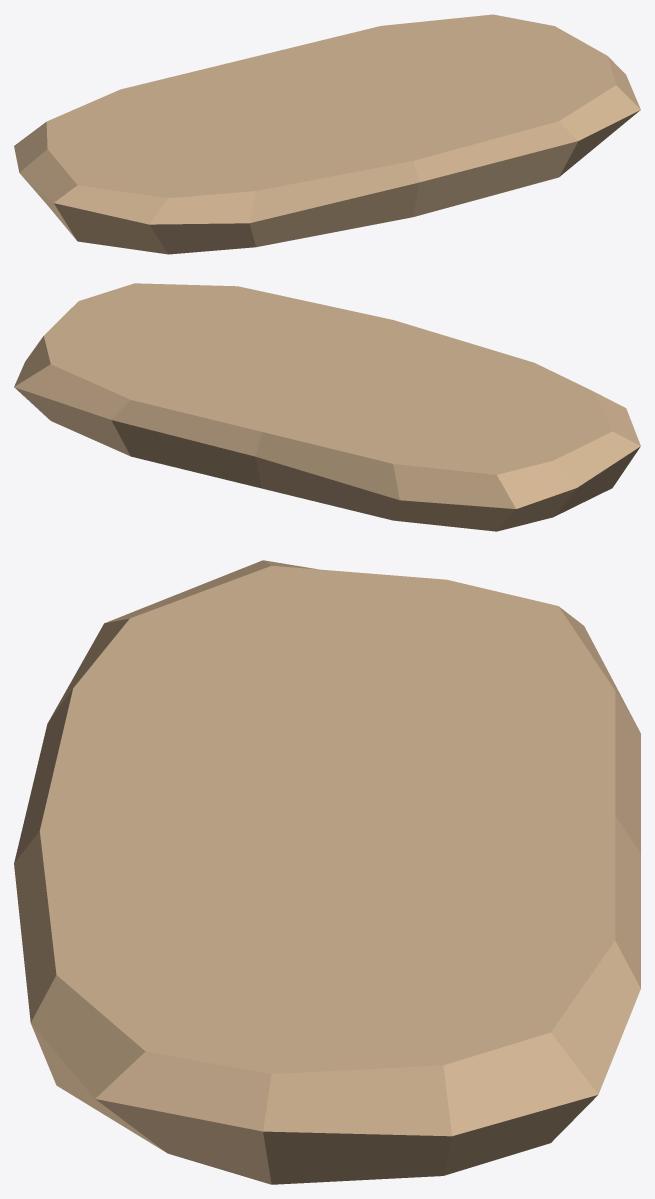
The model's file is Rock_Flat_m_10.fbx.
The picture shows the model from 3 angles, top to bottom: view 1: azimuth 30°, elevation 25°; view 2: azimuth 150°, elevation 25°; view 3: azimuth 270°, elevation 25°; orthographic projection. The views are drawn at different scales.
Parts seen in each view (by area): view 1: Rock_Flat_m_10; view 2: Rock_Flat_m_10; view 3: Rock_Flat_m_10.
Part boxes in pixels (x1=…): Rock_Flat_m_10: x1=14, y1=14, x2=640, y2=254; Rock_Flat_m_10: x1=14, y1=283, x2=640, y2=531; Rock_Flat_m_10: x1=14, y1=560, x2=640, y2=1184.
Size of the model in its own units: 207 by 19.46 by 99.93.
